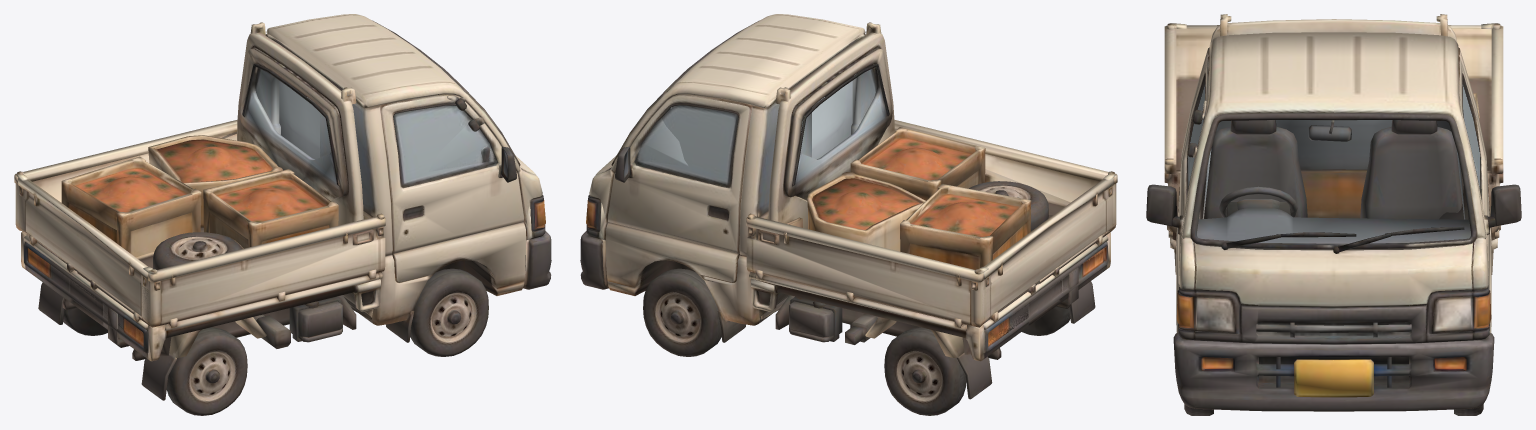
File: kei_truck.glb
3 views of the same model, side by side, from view 1: azimuth 30°, elevation 25°; view 2: azimuth 150°, elevation 25°; view 3: azimuth 270°, elevation 25° (orthographic). The views are drawn at different scales.
Parts seen in each view (by area): view 1: tripo_node_72d0a490-74e0-4850-884e-ad2af09a1296; view 2: tripo_node_72d0a490-74e0-4850-884e-ad2af09a1296; view 3: tripo_node_72d0a490-74e0-4850-884e-ad2af09a1296.
Part boxes in pixels (x1,y1,x2,y2): tripo_node_72d0a490-74e0-4850-884e-ad2af09a1296: [14, 14, 551, 415]; tripo_node_72d0a490-74e0-4850-884e-ad2af09a1296: [580, 14, 1117, 415]; tripo_node_72d0a490-74e0-4850-884e-ad2af09a1296: [1146, 14, 1521, 415].
Bounding box in the file's own units: 0.9995 × 0.6372 × 0.6372.
1 material, 1 textured.
